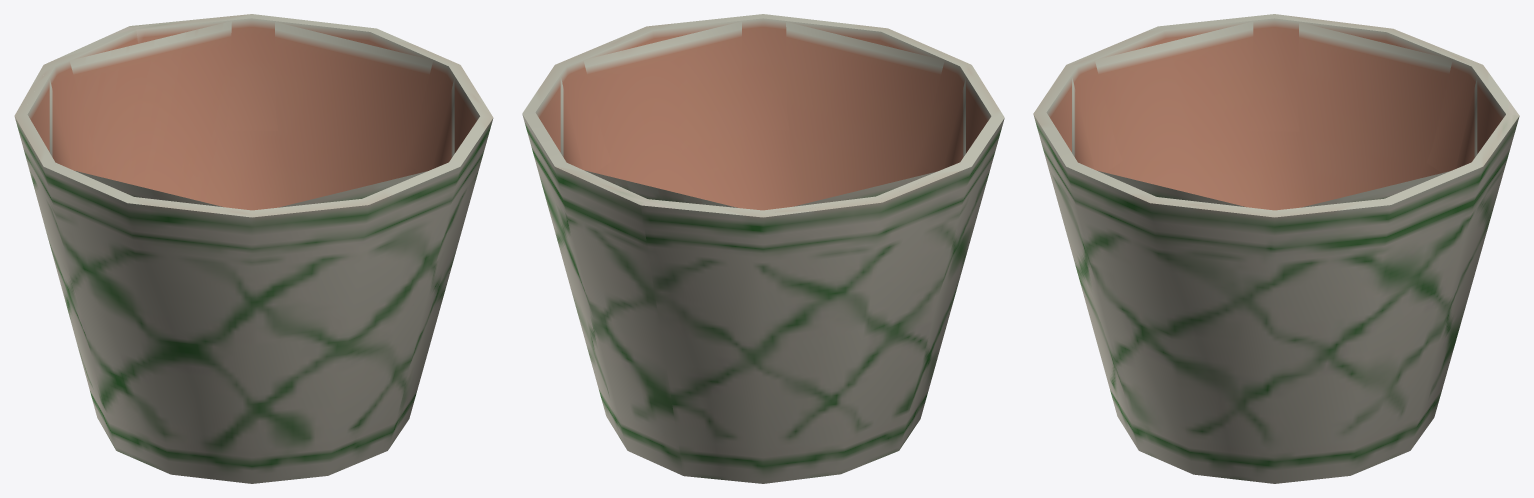
The model's file is objects_un_dlc1_t10bowl01_03.gltf.
3 renders of one model, left to right at view 1: azimuth 30°, elevation 25°; view 2: azimuth 150°, elevation 25°; view 3: azimuth 270°, elevation 25°, orthographic.
Visible parts, largest first — view 1: um_objects_un_dlc1_t10bowl01_model_lod0Shape:objects_un_dlc1, um_objects_un_dlc1_t10bowl01_model_lod1Shape:objects_un_dlc1; view 2: um_objects_un_dlc1_t10bowl01_model_lod0Shape:objects_un_dlc1, um_objects_un_dlc1_t10bowl01_model_lod1Shape:objects_un_dlc1; view 3: um_objects_un_dlc1_t10bowl01_model_lod0Shape:objects_un_dlc1, um_objects_un_dlc1_t10bowl01_model_lod1Shape:objects_un_dlc1.
Part boxes in pixels (left/top/right/bottom): um_objects_un_dlc1_t10bowl01_model_lod0Shape:objects_un_dlc1: left=14, top=14, right=493, bottom=483; um_objects_un_dlc1_t10bowl01_model_lod1Shape:objects_un_dlc1: left=49, top=21, right=454, bottom=210; um_objects_un_dlc1_t10bowl01_model_lod0Shape:objects_un_dlc1: left=522, top=14, right=1004, bottom=483; um_objects_un_dlc1_t10bowl01_model_lod1Shape:objects_un_dlc1: left=560, top=21, right=965, bottom=210; um_objects_un_dlc1_t10bowl01_model_lod0Shape:objects_un_dlc1: left=1033, top=14, right=1519, bottom=483; um_objects_un_dlc1_t10bowl01_model_lod1Shape:objects_un_dlc1: left=1072, top=21, right=1477, bottom=210.
Size of what is drawn, in the model's own units: 0.3818 by 0.2654 by 0.3857.
Materials: 2 (1 with a texture image).
